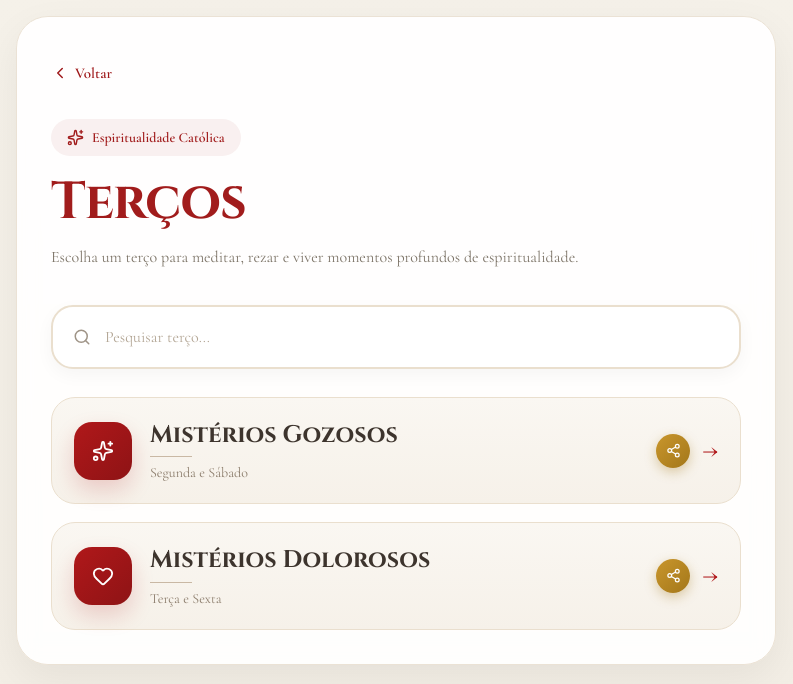
Test case: RosaryHome › shows an empty state when nothing matches
Type "zzz" into the field with placeholder "Pesquisar terço..." at (412, 337), box [105, 307, 719, 367]
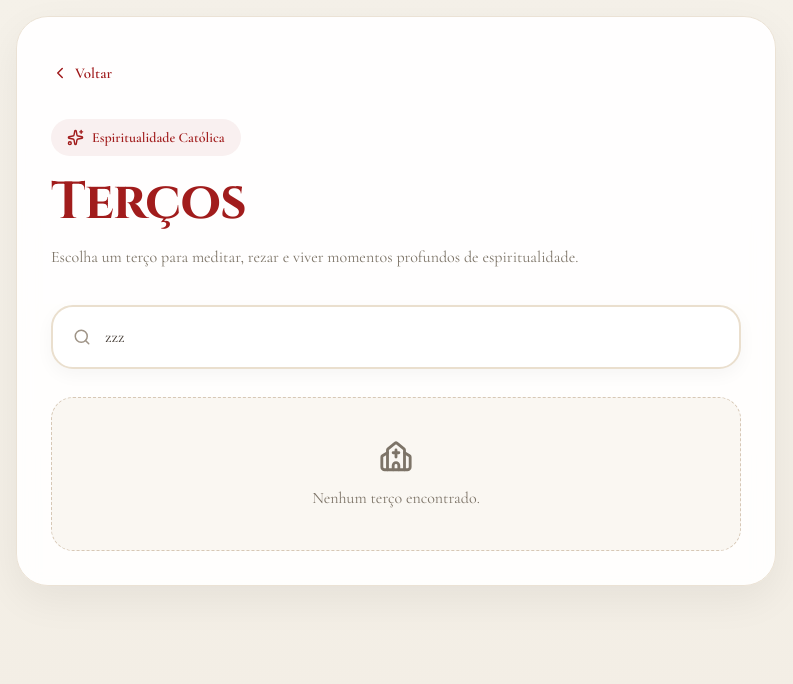
Check: the text "Nenhum terço encontrado." is shown, box [312, 488, 480, 508]
